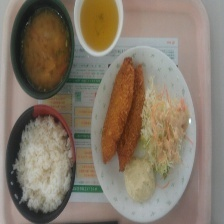rice: (9, 115, 76, 213)
